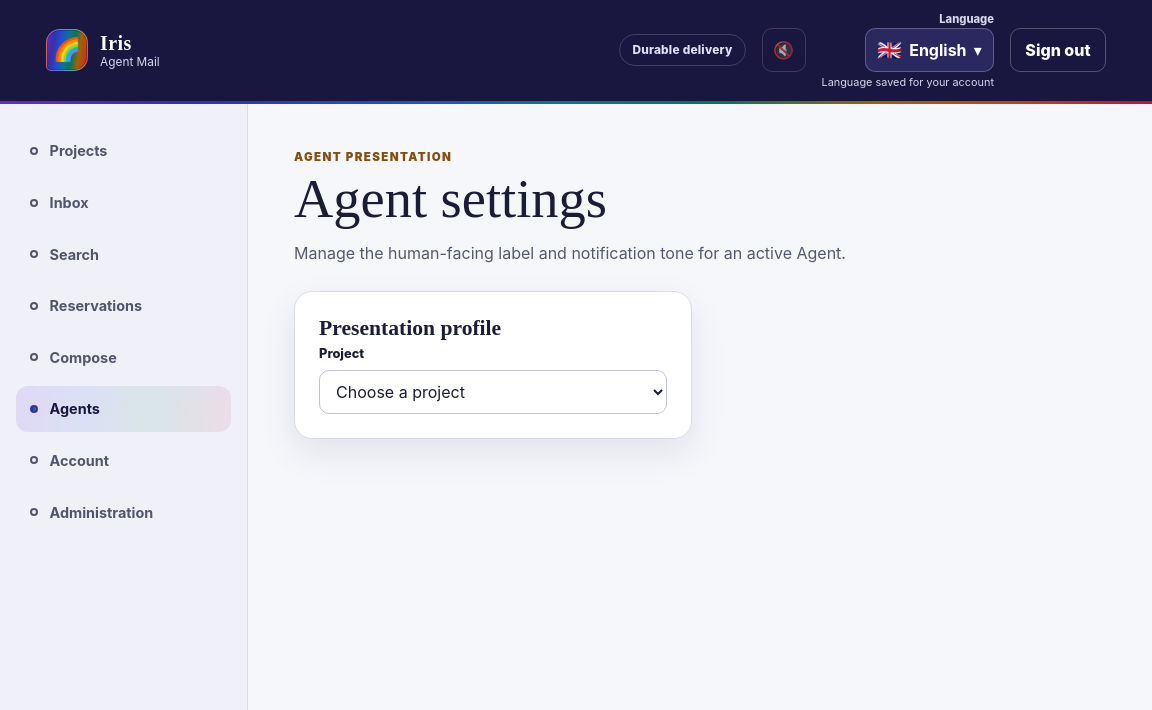
it: Iris landing shell › refreshes a stale Agent profile before asking the operator to retry
Expected: the text "Language saved for your account" is shown, [822,75,994,89]
Select "/mateusz-klatt/mcp_agent_mail" in the dropdown labelled "Project" at {"x": 493, "y": 392}, box [319,370,667,414]
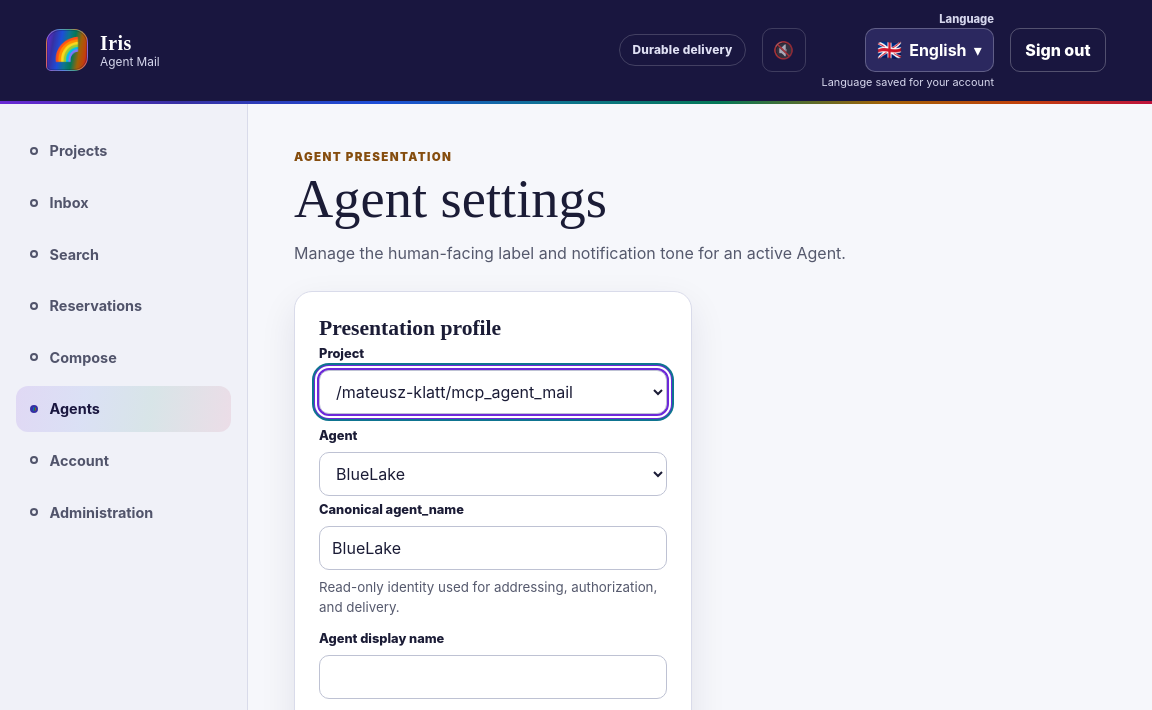
Type "Local draft" into the field labelled "Agent display name" at {"x": 493, "y": 677}, box [319,655,667,699]
(page scrolled)
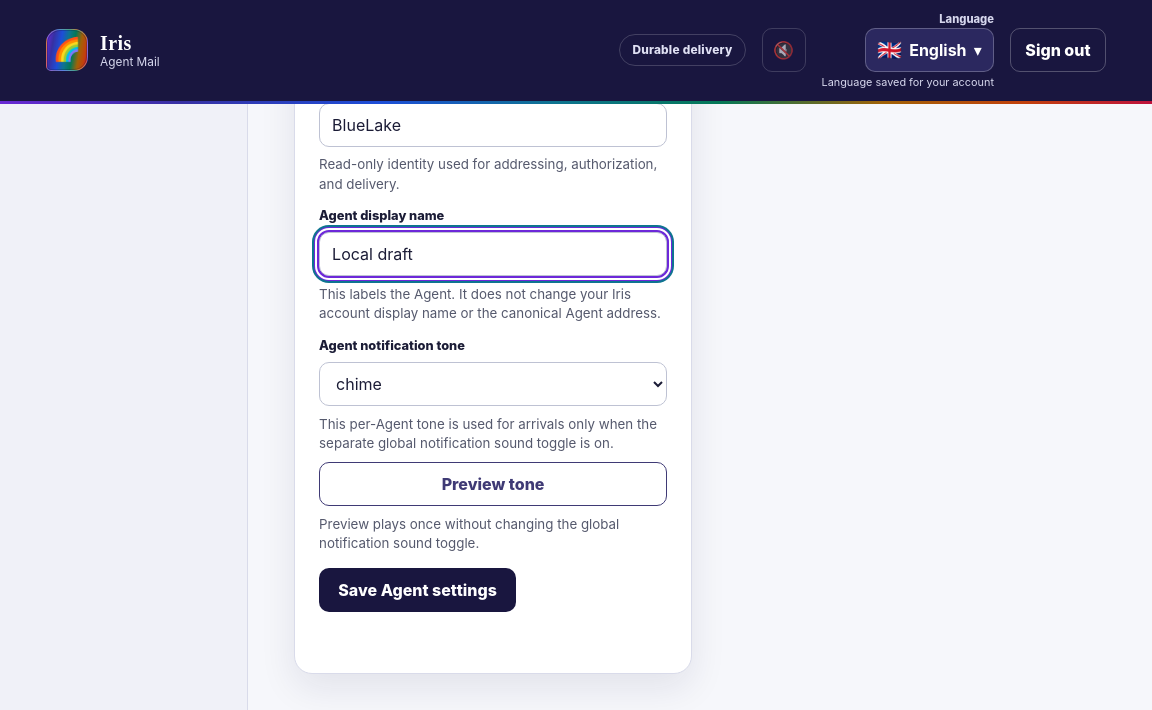
Click the button "Save Agent settings" at {"x": 418, "y": 590}, box [319,568,516,612]
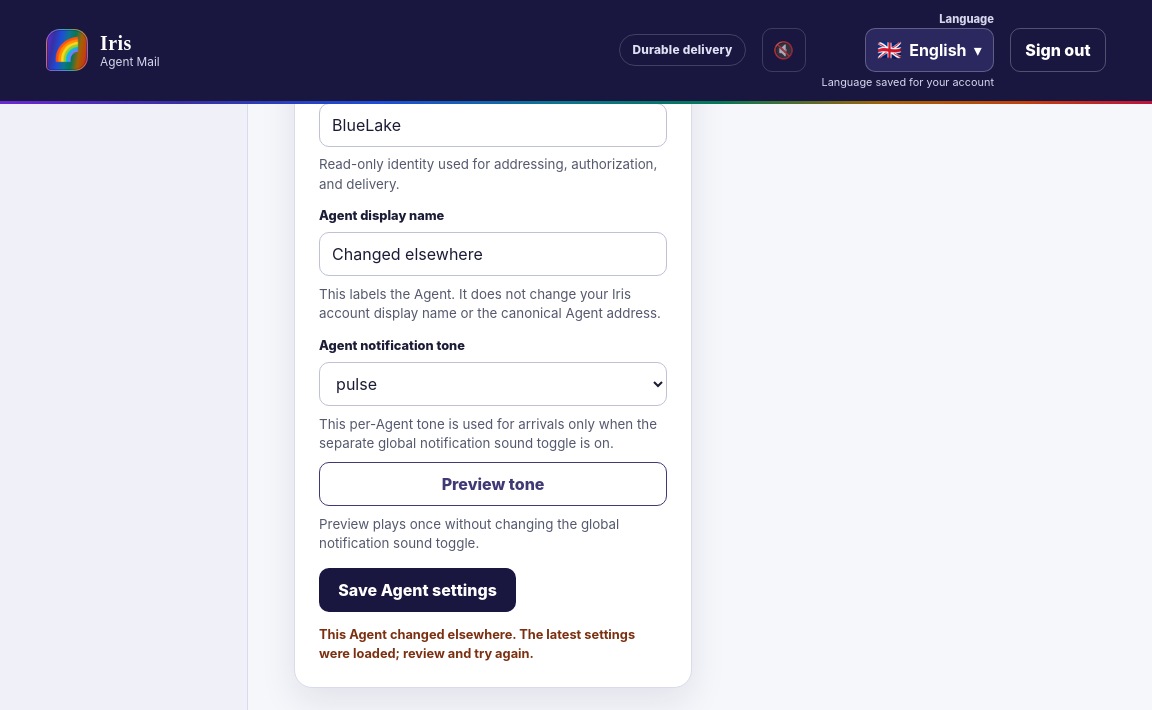
Result: the text "This Agent changed elsewhere" is shown at [319,627,635,661]
Result: the field labelled "Agent display name" holds "Changed elsewhere" at [319,232,667,276]
Result: the dropdown labelled "Agent notification tone" shows "pulse" at [319,362,667,406]
